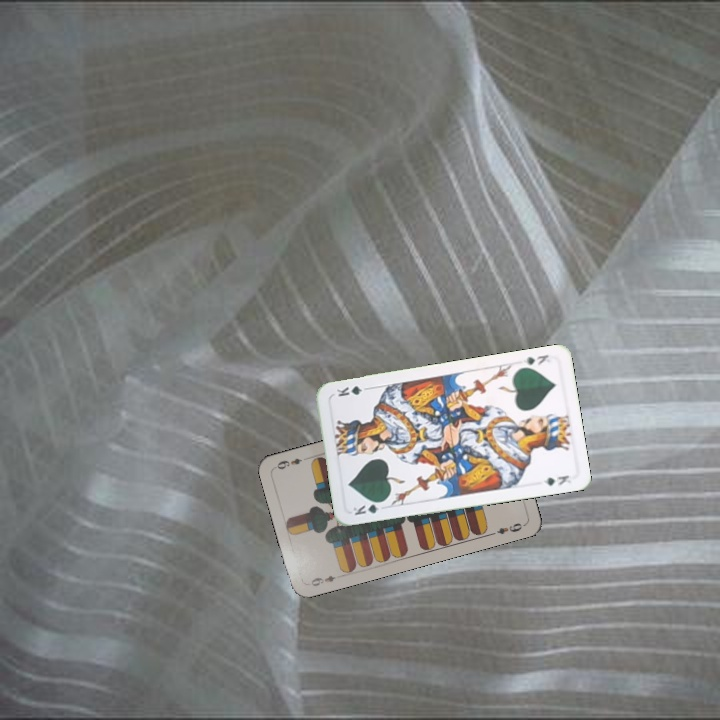E9: (307, 571, 338, 589)
GK: (349, 497, 388, 518), (519, 351, 553, 368)
